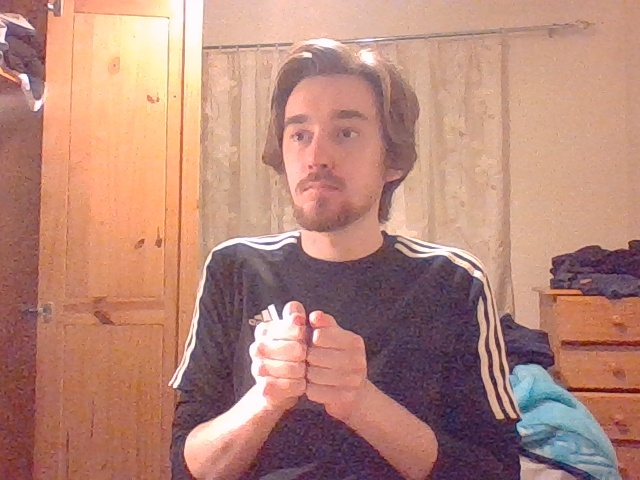brother: (249, 300, 367, 405)
